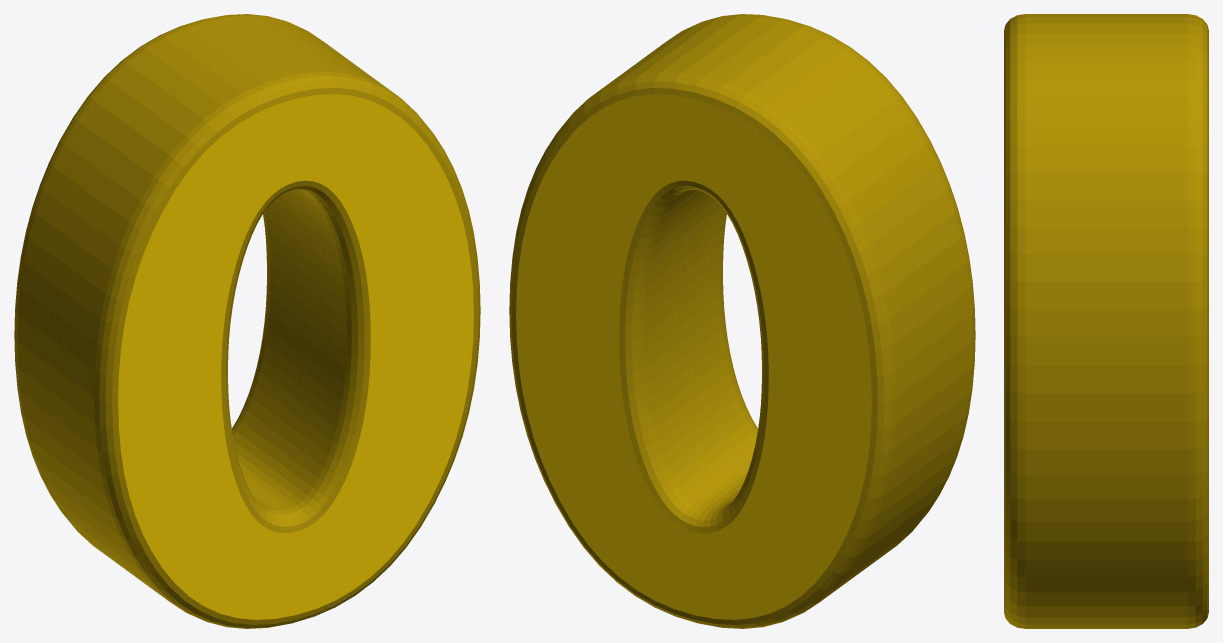
The picture shows the model from 3 angles, left to right: view 1: azimuth 30°, elevation 25°; view 2: azimuth 150°, elevation 25°; view 3: azimuth 270°, elevation 25°; orthographic projection. The views are drawn at different scales.
Bounding box in the file's own units: 0.98 × 1.33 × 0.43.
